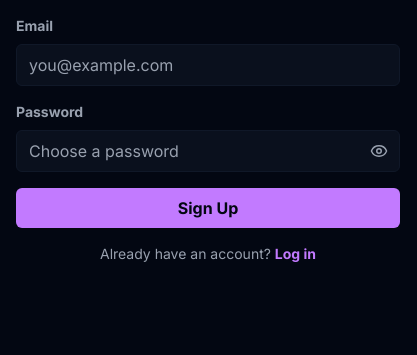
Test case: SignupForm › shows an error message for a weak password
Type "new@example.com" into the field labelled "Email" at (208, 65), box [16,44,400,86]
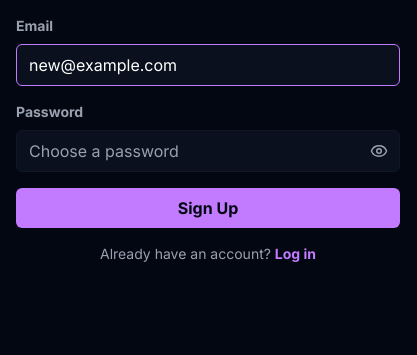
Type "hunter2" into the password field labelled "Password" at (208, 151), box [16,130,400,172]
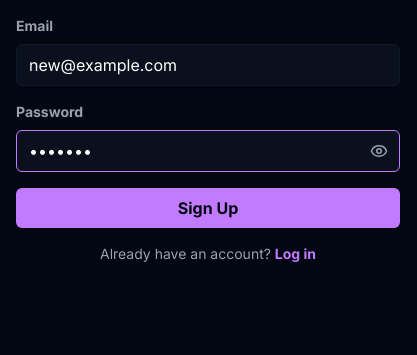
Click the button "Sign Up" at (208, 208), box [16,188,400,228]
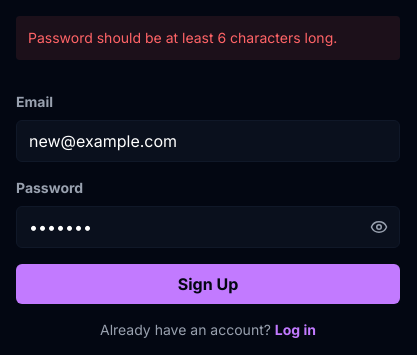
Check: the text "Password should be at least 6 characters long." is shown, box [16,16,400,60]
